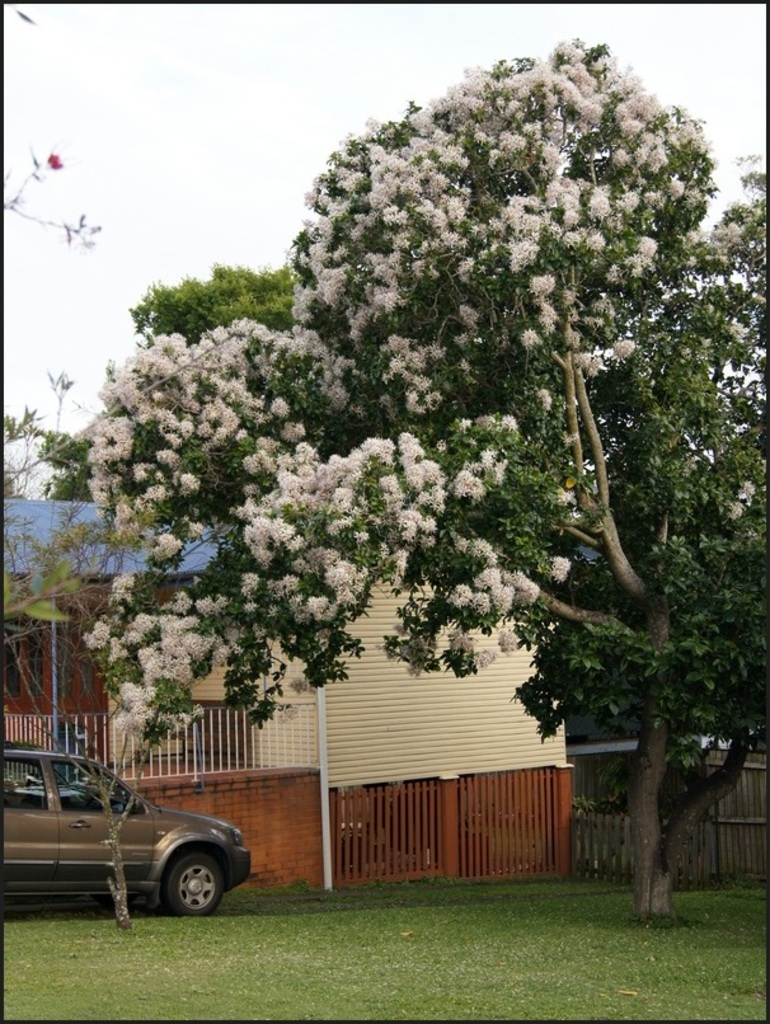Car: (1, 785, 263, 931)
